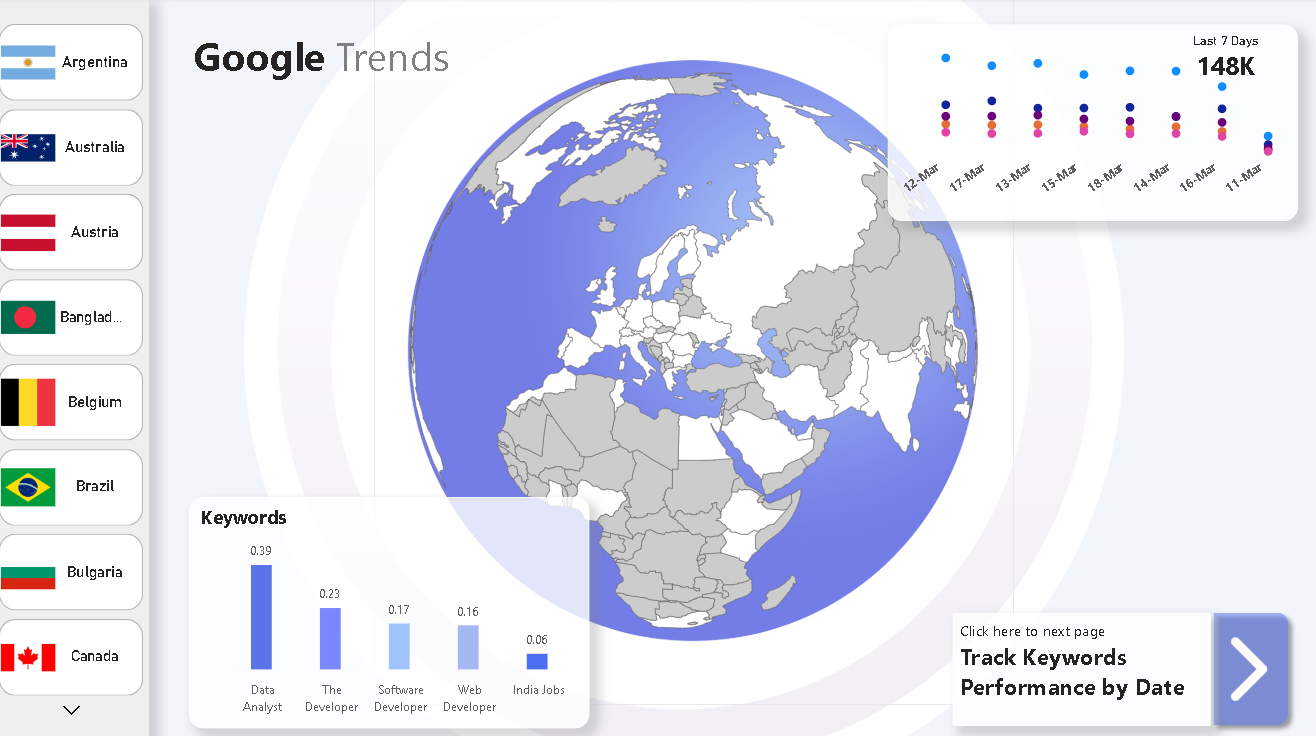

The dashboard page shown, as its layout file describes it:
{"tool":"powerbi","page":{"name":"Overview","canvas":[1280,720],"ordinal":0},"visuals":[{"type":"shapeMap","fields":{"Category":["Country_API.Country"]},"box":[366.8,0,617.7,682.8],"z":0},{"type":"shape","box":[0,0,149.6,720.2],"z":1000},{"type":"actionButton","box":[1167.8,585.1,90.5,126.7],"z":2000},{"type":"advancedSlicerVisual","fields":{"Values":["Country_API.Country"]},"box":[0,1.2,149.6,702.1],"z":3000},{"type":"clusteredColumnChart","title":"Keywords","fields":{"Category":["Country_API.Keywords"],"Y":["Country_API.country_values"]},"box":[188.2,482.6,386.1,223.2],"z":4000},{"type":"lineChart","fields":{"Series":["Past_7_Days_Serches (2).Keywords"],"Y":["Past_7_Days_Serches (2).last_7_days_value"],"Category":["Past_7_Days_Serches (2).New_Date"]},"box":[862.6,26.5,395.7,189.4],"z":5000},{"type":"textbox","box":[925.3,594.8,248.5,108.6],"z":6000},{"type":"card","title":"Last 7 Days","fields":{"Values":["Past_7_Days_Serches (2).last_7_days_value"]},"box":[1128,35,121.9,51.9],"z":7000},{"type":"textbox","box":[188.2,26.5,307.6,60.3],"z":8000}]}

Visuals, with their boxes in screenshot pixels (x1, y1, x2, y2), scaled from the page's 1280x720 canvas onto the 1316x736 screenshot:
shapeMap - Country_API.Country: x1=377, y1=0, x2=1012, y2=698
shape: x1=0, y1=0, x2=154, y2=735
actionButton: x1=1201, y1=598, x2=1294, y2=728
advancedSlicerVisual - Country_API.Country: x1=0, y1=1, x2=154, y2=719
"Keywords" clusteredColumnChart: x1=193, y1=493, x2=590, y2=721
lineChart - Past_7_Days_Serches (2).Keywords x Past_7_Days_Serches (2).last_7_days_value: x1=887, y1=27, x2=1294, y2=221
textbox: x1=951, y1=608, x2=1207, y2=719
"Last 7 Days" card: x1=1160, y1=36, x2=1285, y2=89
textbox: x1=193, y1=27, x2=510, y2=89
